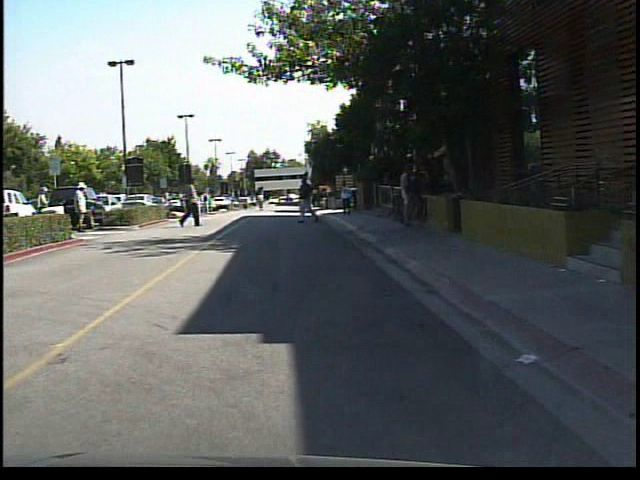person: (395, 154, 424, 234), (295, 168, 323, 226), (180, 172, 206, 232), (73, 177, 96, 235), (414, 165, 435, 226), (35, 182, 57, 237), (338, 176, 355, 220), (200, 188, 214, 218), (254, 189, 270, 212)
